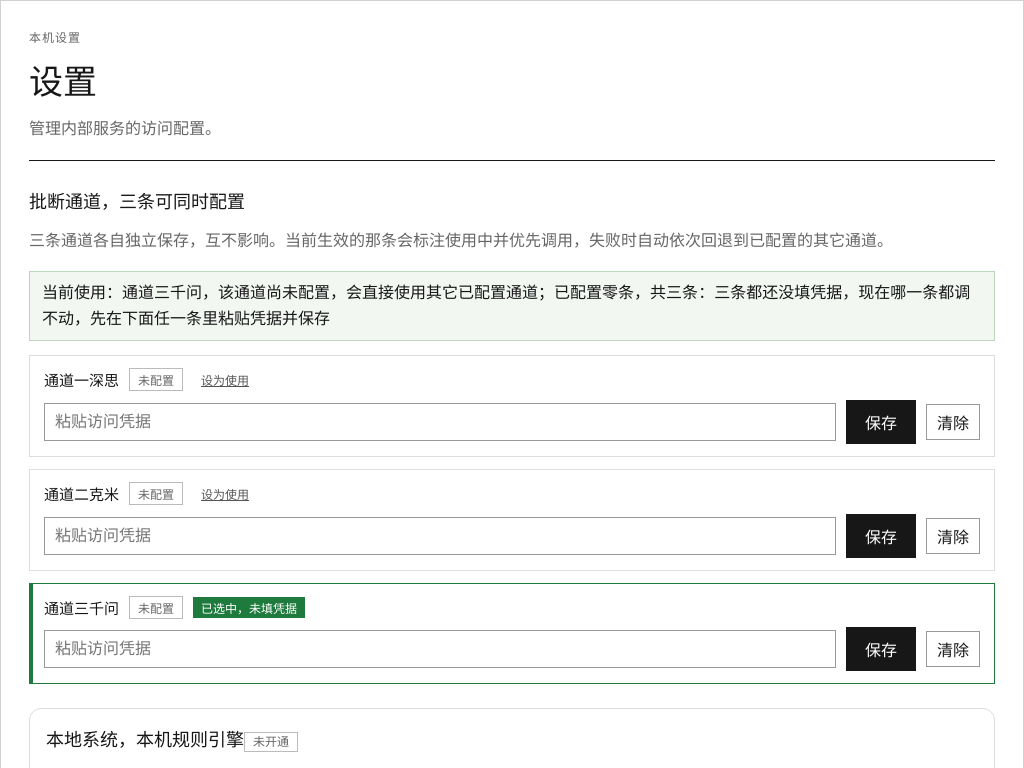
Test: 本地系统入口：与 Qwen 凭据彻底分开 › 云端凭据粘进密钥框：不开通、不写凭据、不动已有凭据
The image size is (1024, 768).
Expected: the text with class "channel-status" next to "已选中，未填凭据" reads "未配置", x1=138 y1=602 x2=174 y2=616
Type "sk-existing-qwen" into the password field named "通道三千问访问凭据" at (440, 649), box x1=44 y1=630 x2=836 y2=668
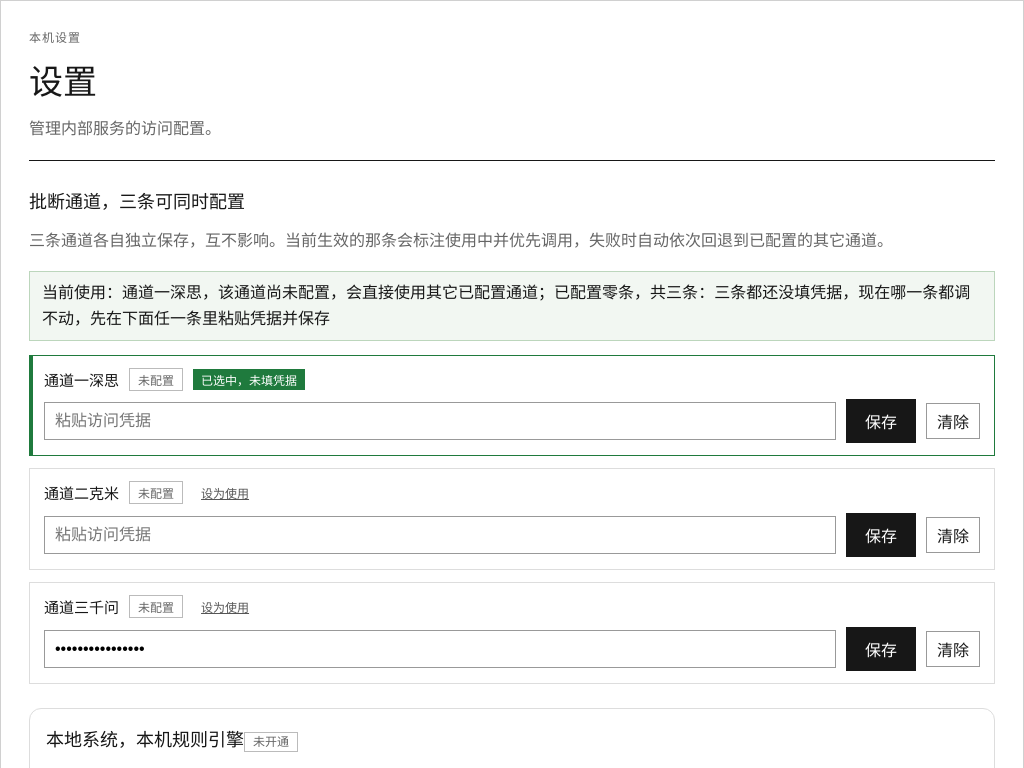
Click the 3rd button "保存" at (881, 649), box x1=846 y1=627 x2=916 y2=671
(page scrolled)
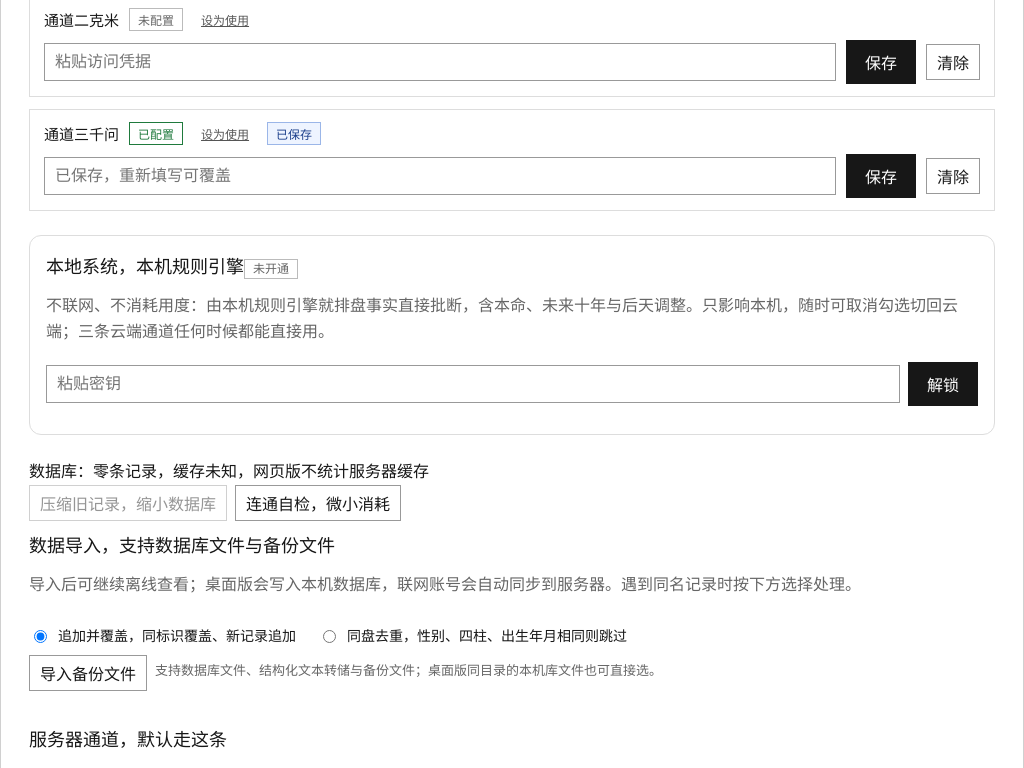
Expected: the text with class "channel-status" reads "已配置", x1=138 y1=128 x2=174 y2=142
Type "sk-some-cloud-secret" into the password field named "本地系统密钥" at (473, 384), box x1=46 y1=365 x2=900 y2=403
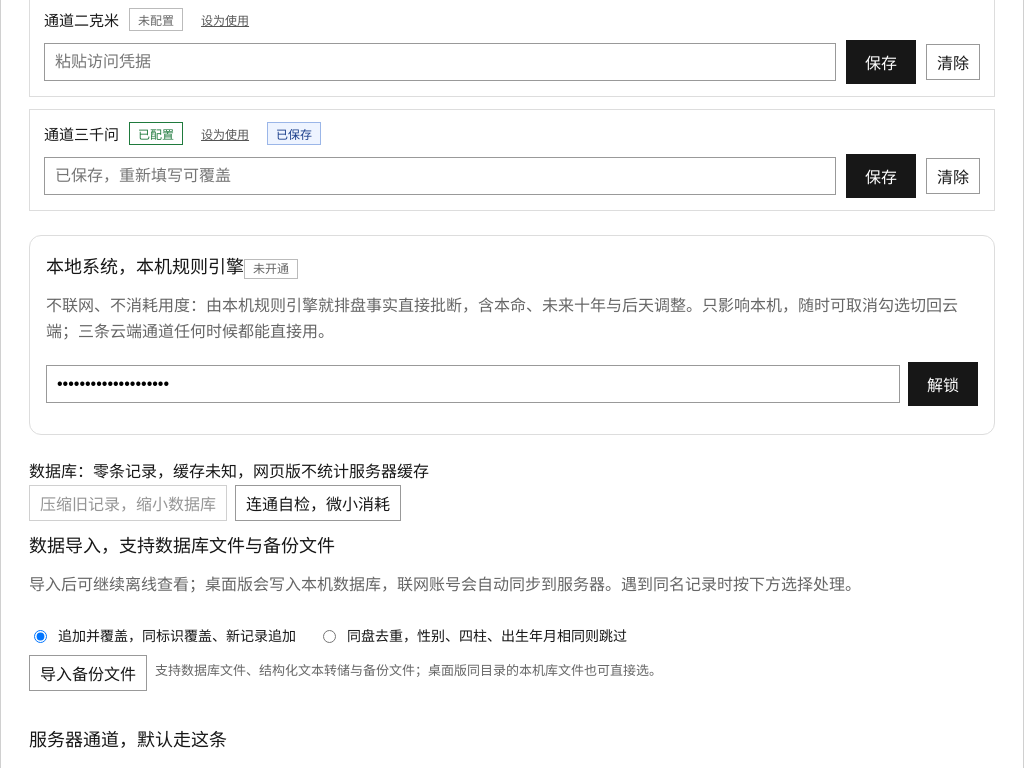
Click the button "解锁" at (943, 384), box x1=908 y1=362 x2=978 y2=406
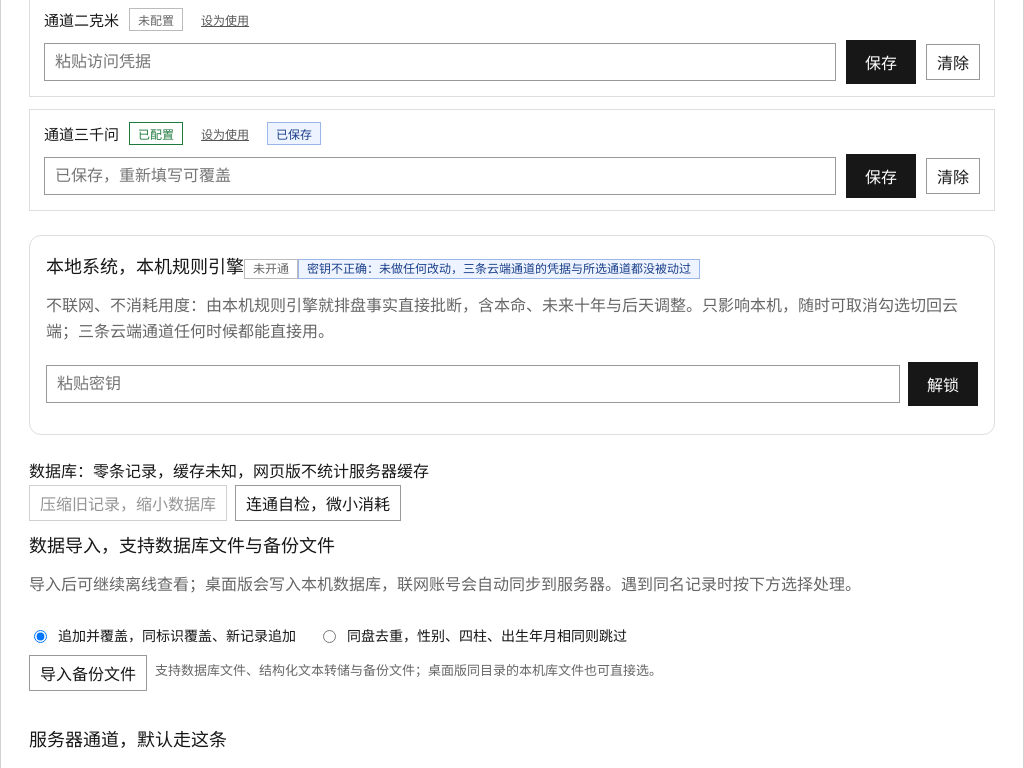
Expected: the text with class "channel-status" reads "已配置", x1=138 y1=128 x2=174 y2=142
Expected: the text "密钥不正确：未做任何改动，三条云端通道的凭据与所选通道都没被动过" is shown, x1=298 y1=259 x2=700 y2=279
